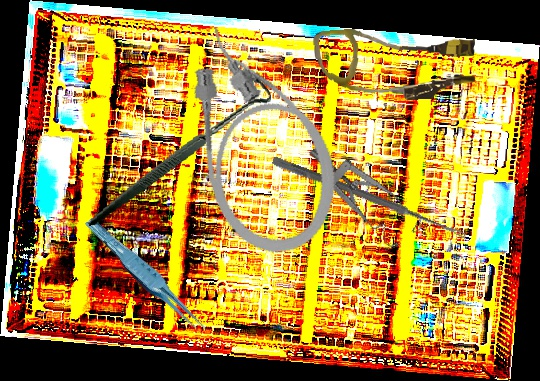Cannula: (172, 8, 352, 266), (312, 20, 479, 107)
Hook Surgical: (69, 74, 287, 226)
Speculum: (308, 119, 428, 264)
Surgical Spoon: (271, 156, 468, 240)
Tissue Forceps: (83, 208, 211, 346)
